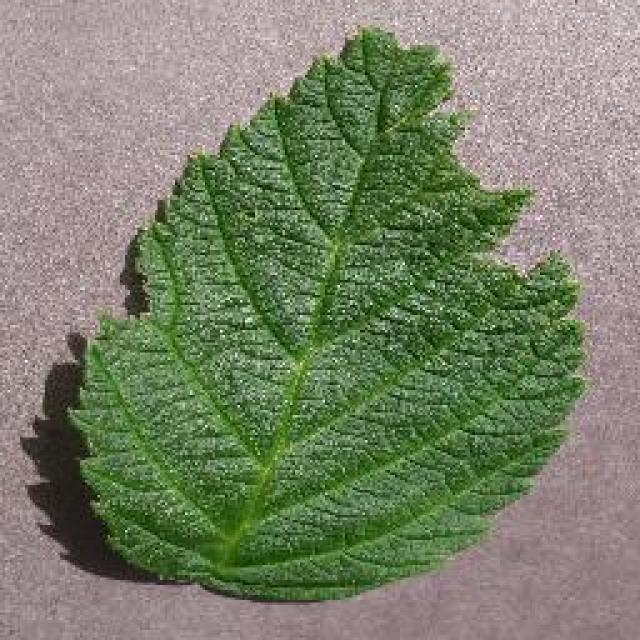Ras_healthy: (94, 106, 532, 563)
